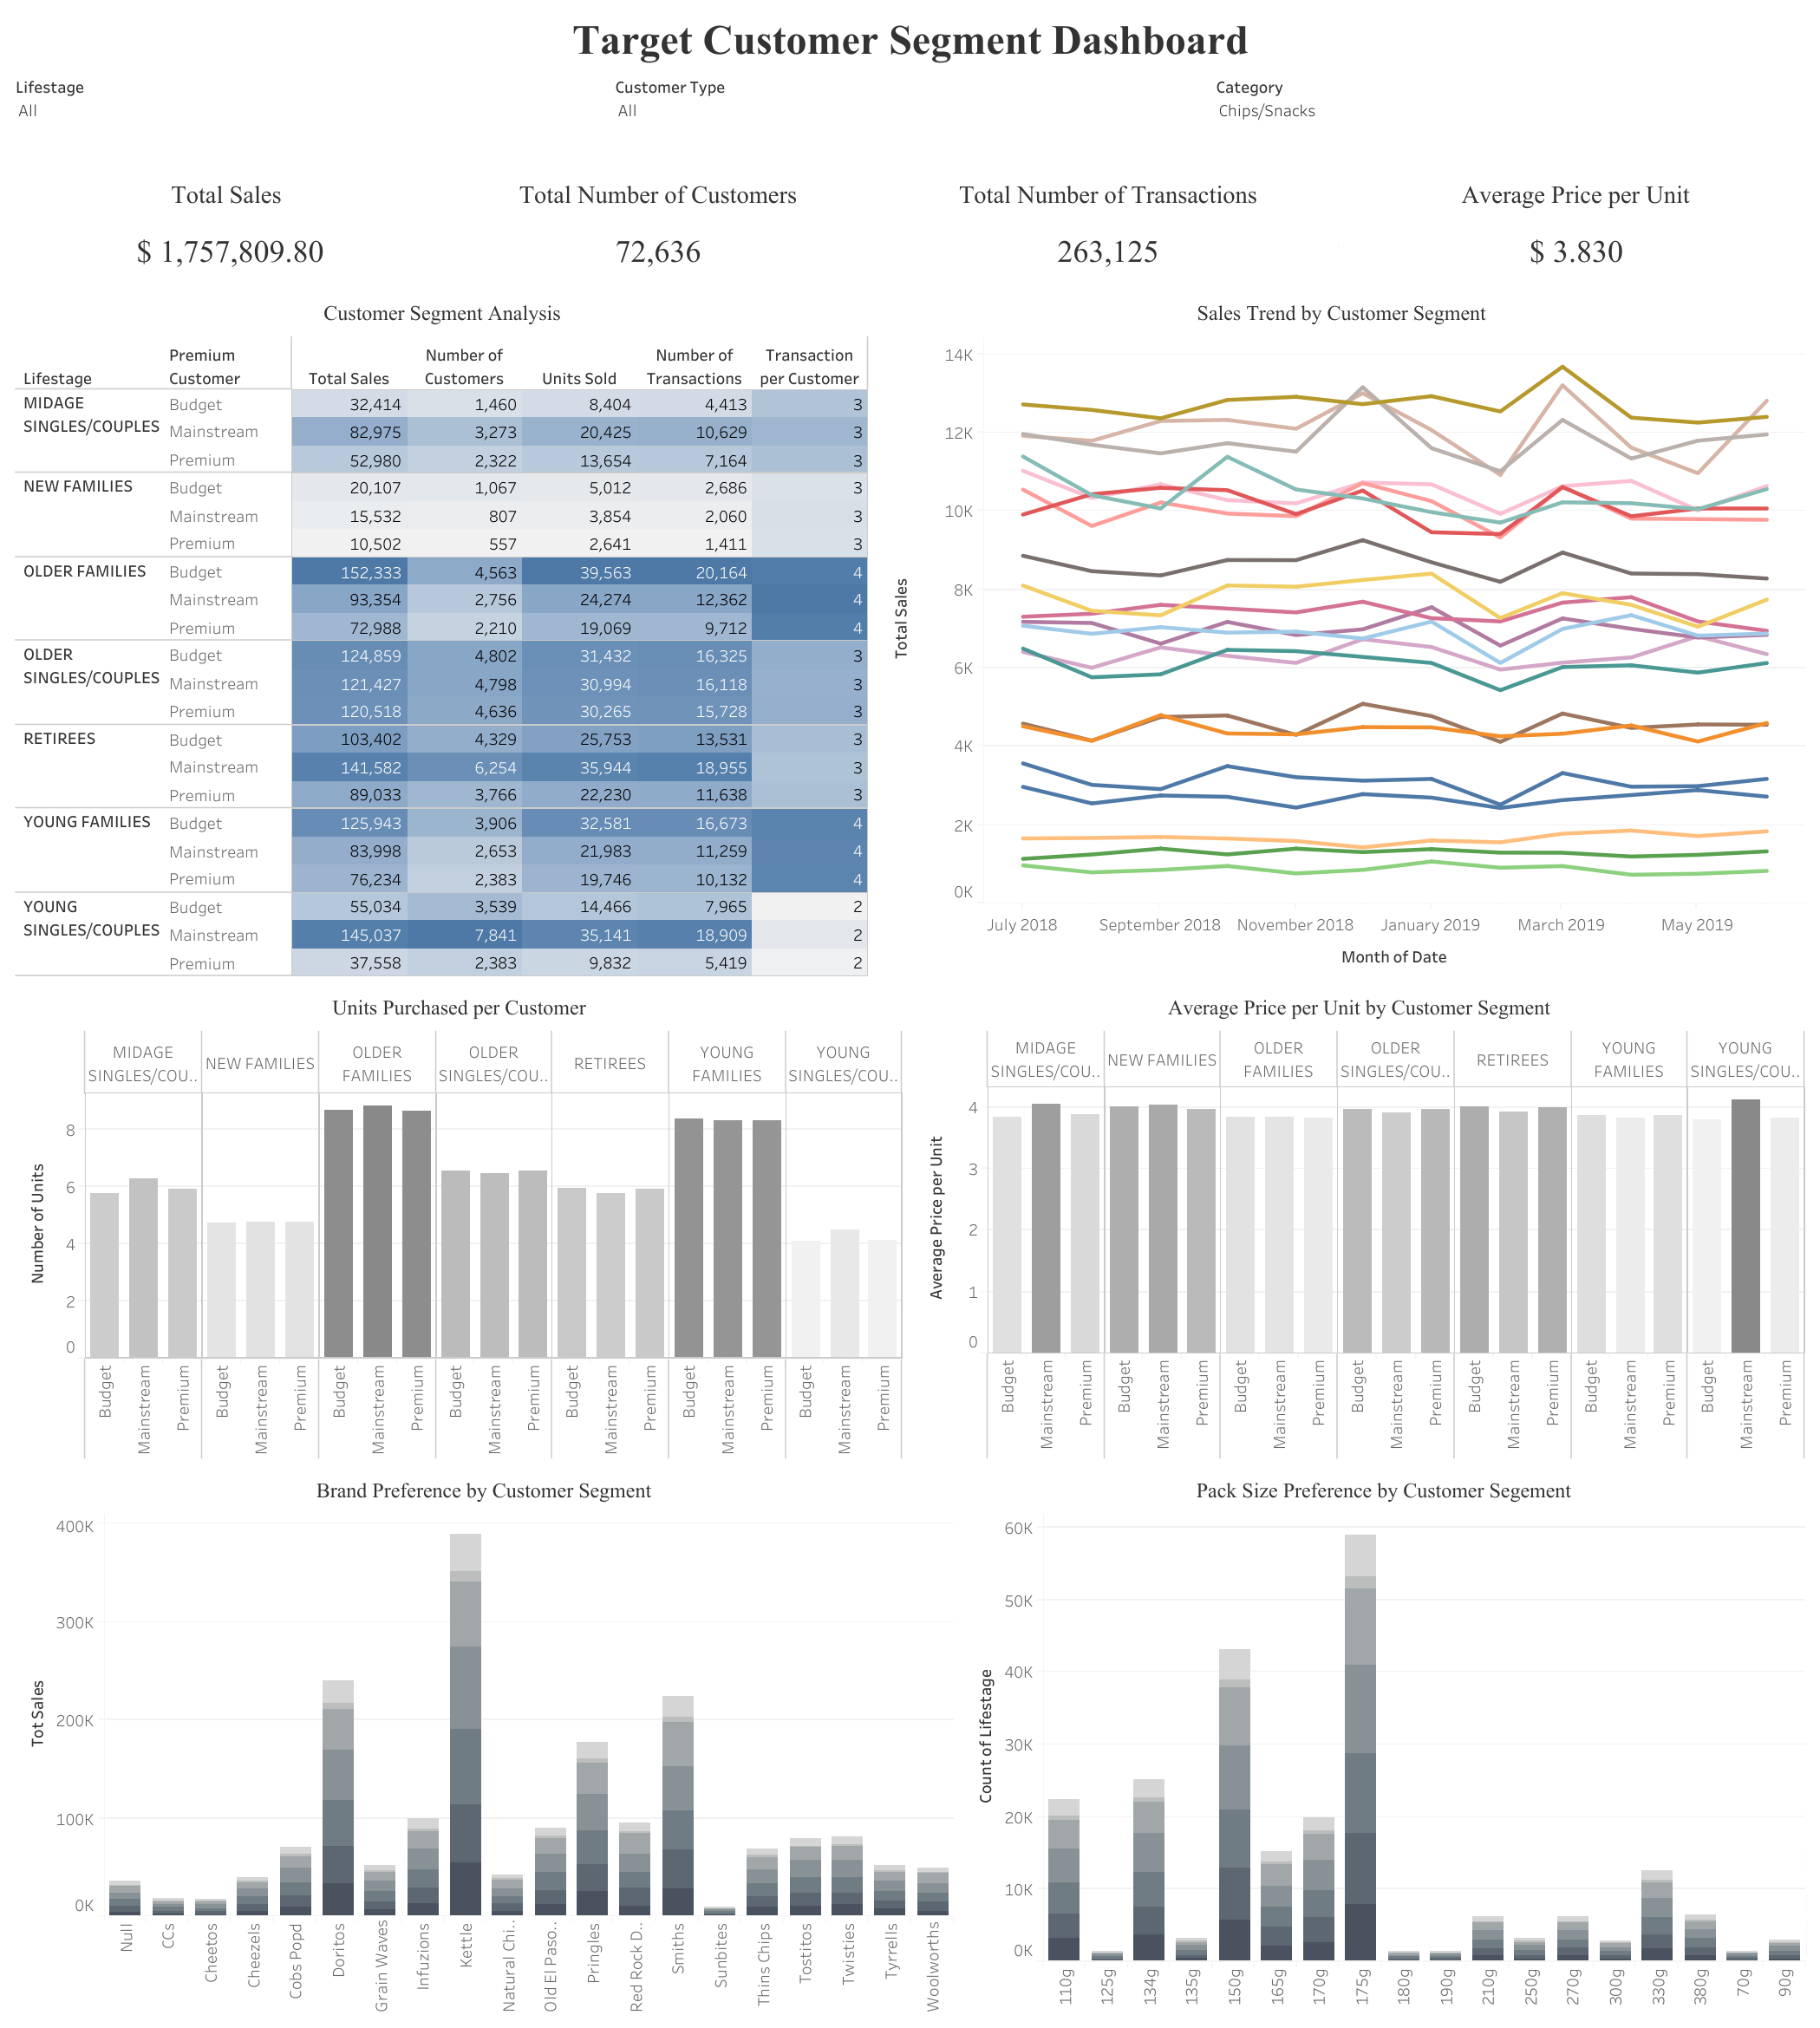

This screenshot's page, from the dashboard's own definition file:
{"tool":"tableau","page":{"name":"Target Customer Segemnt Dashboard","canvas":[1000,1000],"units":"permille","ordinal":0},"visuals":[{"type":"title","box":[4.9,5.1,990.3,39.8]},{"type":"filter","title":"Sales Trend by Customer Segment","param":"[federated.1anfx071358mwu18ylge40di8bt8].[none:LIFESTAGE:nk]","box":[4.9,44.9,334.7,49.4]},{"type":"filter","title":"Sales Trend by Customer Segment","param":"[federated.1anfx071358mwu18ylge40di8bt8].[none:PREMIUM_CUSTOMER:nk]","box":[339.5,44.9,334.7,49.4]},{"type":"filter","title":"Sales Trend by Customer Segment","param":"[federated.1anfx071358mwu18ylge40di8bt8].[none:CATEGORY:nk]","box":[674.1,44.9,321,49.4]},{"type":"worksheet","title":"Total Sales","mark":"Automatic","box":[4.9,94.2,225.1,58.5]},{"type":"worksheet","title":"Total No. of customers","mark":"Automatic","box":[230,94.2,249.9,58.5]},{"type":"worksheet","title":"Total No. of Transactions","mark":"Automatic","box":[479.8,94.2,257.7,58.5]},{"type":"worksheet","title":"Avg Price per unit ","mark":"Automatic","box":[737.5,94.2,257.7,58.5]},{"type":"worksheet","title":"Customer Segment Analysis","mark":"Square","rows":["LIFESTAGE","PREMIUM_CUSTOMER"],"box":[4.9,152.8,475.1,337.6]},{"type":"worksheet","title":"Sales Trend by Customer Segment","mark":"Automatic","rows":["TOT_SALES"],"cols":["DATE"],"box":[479.9,152.8,515.2,337.6]},{"type":"worksheet","title":"Units Purchased per Customer","mark":"Automatic","rows":["Calculation_1024201882644482"],"cols":["LIFESTAGE","PREMIUM_CUSTOMER"],"box":[4.9,490.3,493.6,235.2]},{"type":"worksheet","title":"Average Price per Unit by Segment","mark":"Automatic","rows":["Calculation_1024201891594248"],"cols":["LIFESTAGE","PREMIUM_CUSTOMER"],"box":[498.4,490.3,496.6,235.2]},{"type":"worksheet","title":"Brand Preference by Customer Segment","mark":"Automatic","rows":["TOT_SALES"],"cols":["BRAND_NAME"],"box":[4.9,725.6,521.8,269.3]},{"type":"worksheet","title":"Pack Size Preference by Customer Segment","mark":"Automatic","rows":["LIFESTAGE"],"cols":["PACK_SIZE"],"box":[526.6,725.6,468.4,269.3]}]}

Visuals, with their boxes on the dashboard's canvas, which has no fixed pixel size, in thousandths of its width and height (x1, y1, x2, y2). These are canvas units, not pixel positions in the 1820x2028 screenshot, which may show the page scaled, cropped or inside an application window:
title: detection(5, 5, 995, 45)
"Sales Trend by Customer Segment" filter: detection(5, 45, 340, 94)
"Sales Trend by Customer Segment" filter: detection(340, 45, 674, 94)
"Sales Trend by Customer Segment" filter: detection(674, 45, 995, 94)
"Total Sales" worksheet: detection(5, 94, 230, 153)
"Total No. of customers" worksheet: detection(230, 94, 480, 153)
"Total No. of Transactions" worksheet: detection(480, 94, 738, 153)
"Avg Price per unit " worksheet: detection(738, 94, 995, 153)
"Customer Segment Analysis" worksheet (Square marks): detection(5, 153, 480, 490)
"Sales Trend by Customer Segment" worksheet: detection(480, 153, 995, 490)
"Units Purchased per Customer" worksheet: detection(5, 490, 498, 726)
"Average Price per Unit by Segment" worksheet: detection(498, 490, 995, 726)
"Brand Preference by Customer Segment" worksheet: detection(5, 726, 527, 995)
"Pack Size Preference by Customer Segment" worksheet: detection(527, 726, 995, 995)
